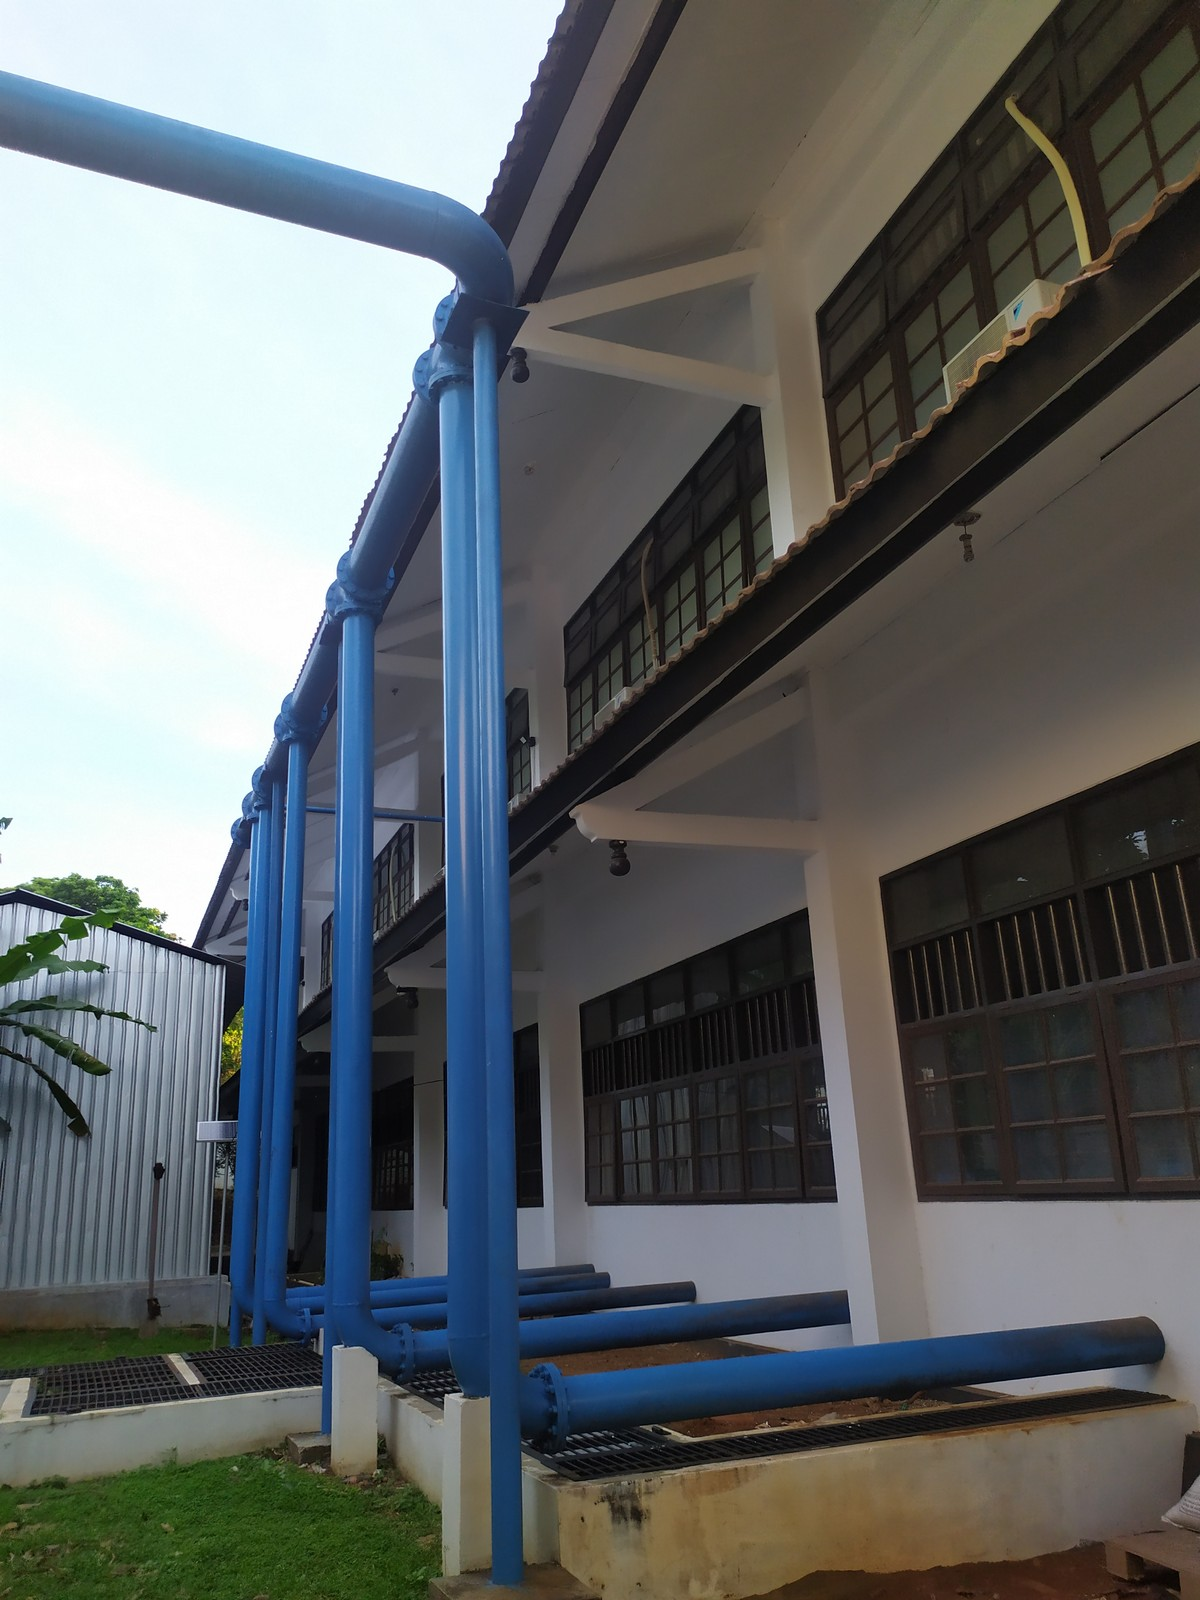concrete beam: (548, 333, 784, 413), (626, 808, 834, 866)
concrete column: (779, 687, 949, 1344), (737, 217, 845, 548), (529, 874, 594, 1270), (521, 551, 572, 786)
